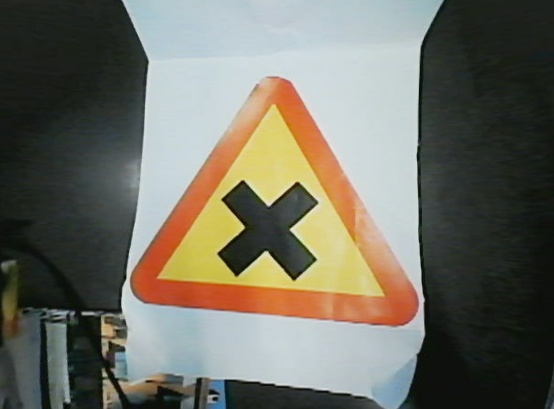junction: (124, 63, 426, 333)
